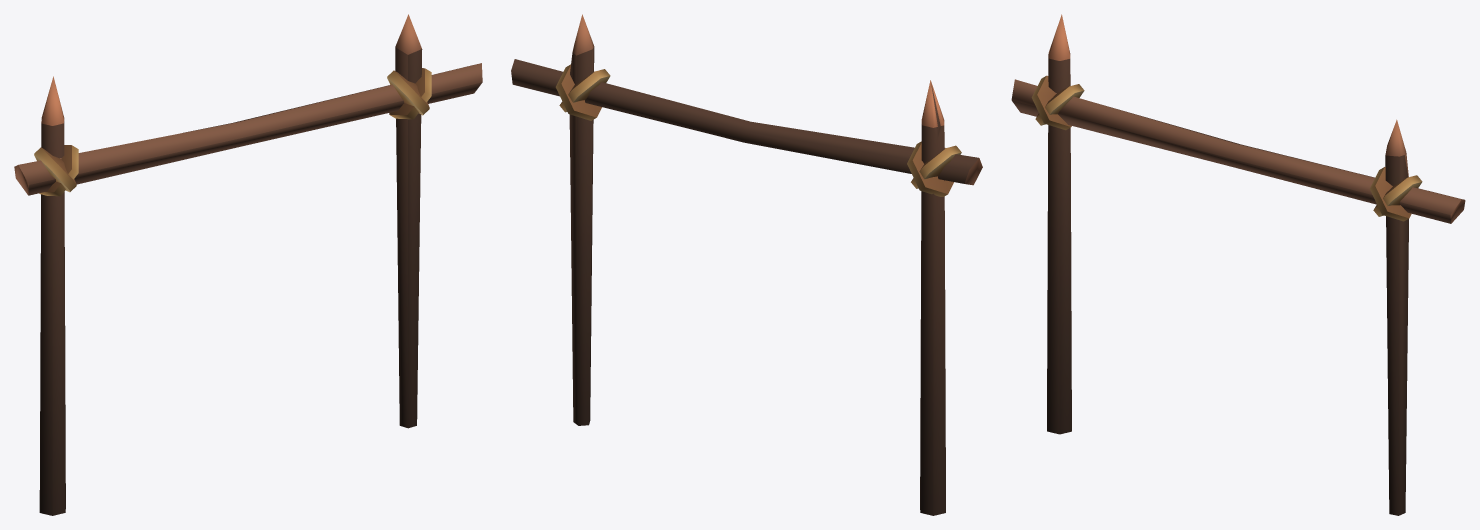
The model's file is Palisade_Gate_1A.fbx.
3 views of the same model, side by side, from view 1: azimuth 30°, elevation 25°; view 2: azimuth 150°, elevation 25°; view 3: azimuth 330°, elevation 25° (orthographic). The views are drawn at different scales.
Parts seen in each view (by area): view 1: Palisade_Gate_1A; view 2: Palisade_Gate_1A; view 3: Palisade_Gate_1A.
Part boxes in pixels (x1,y1,x2,y2): Palisade_Gate_1A: (14, 14, 482, 515); Palisade_Gate_1A: (511, 14, 982, 515); Palisade_Gate_1A: (1011, 14, 1465, 515).
Bounding box in the file's own units: 488 × 434 × 53.31.
